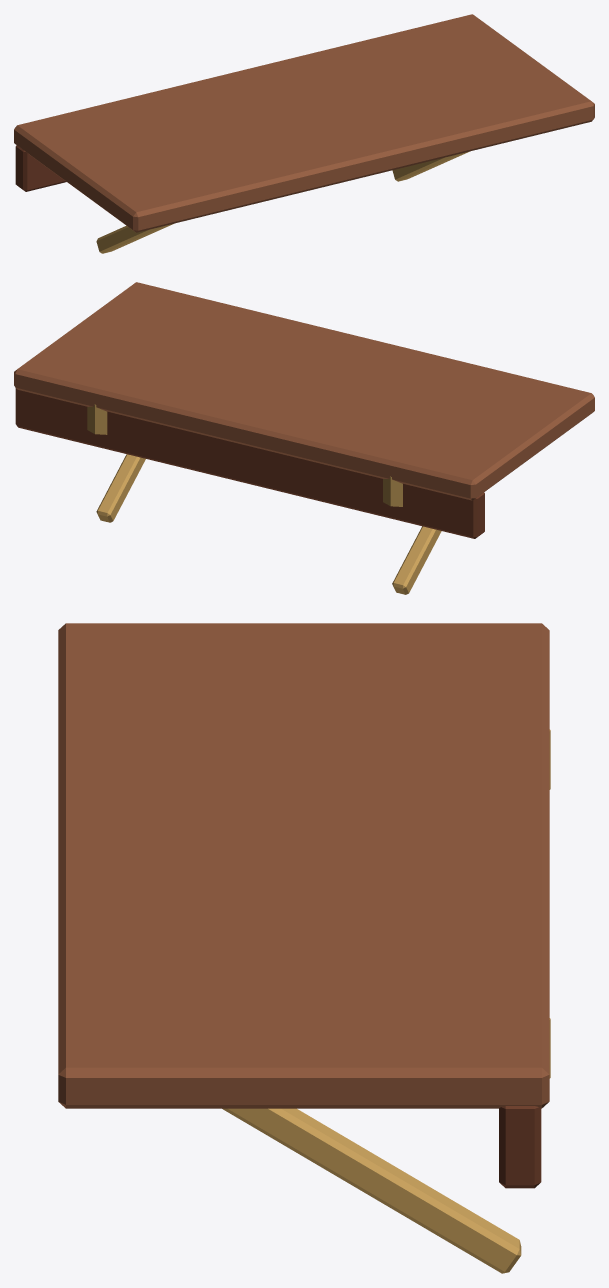
The model's file is folding_desk.glb.
The picture shows the model from 3 angles, top to bottom: view 1: azimuth 30°, elevation 25°; view 2: azimuth 150°, elevation 25°; view 3: azimuth 270°, elevation 25°; orthographic projection. The views are drawn at different scales.
Visible parts, largest first — view 1: Top, WallRail, FoldingBracket, FoldingBracket_001; view 2: Top, WallRail, FoldingBracket_001, FoldingBracket, Hinge_001, Hinge; view 3: Top, FoldingBracket_001, WallRail.
Boxes of the visible parts, bbox=[...] form: Top: bbox=[14, 14, 594, 232]; WallRail: bbox=[15, 145, 66, 191]; FoldingBracket: bbox=[96, 223, 173, 253]; FoldingBracket_001: bbox=[392, 151, 469, 181]; Top: bbox=[14, 282, 594, 500]; WallRail: bbox=[15, 388, 484, 538]; FoldingBracket_001: bbox=[96, 454, 145, 522]; FoldingBracket: bbox=[392, 526, 441, 594]; Hinge_001: bbox=[87, 404, 107, 434]; Hinge: bbox=[383, 476, 402, 506]; Top: bbox=[58, 623, 549, 1108]; FoldingBracket_001: bbox=[222, 1108, 521, 1273]; WallRail: bbox=[499, 1106, 541, 1188].
Size of the model in its own units: 1.65 by 0.4766 by 0.7618.
